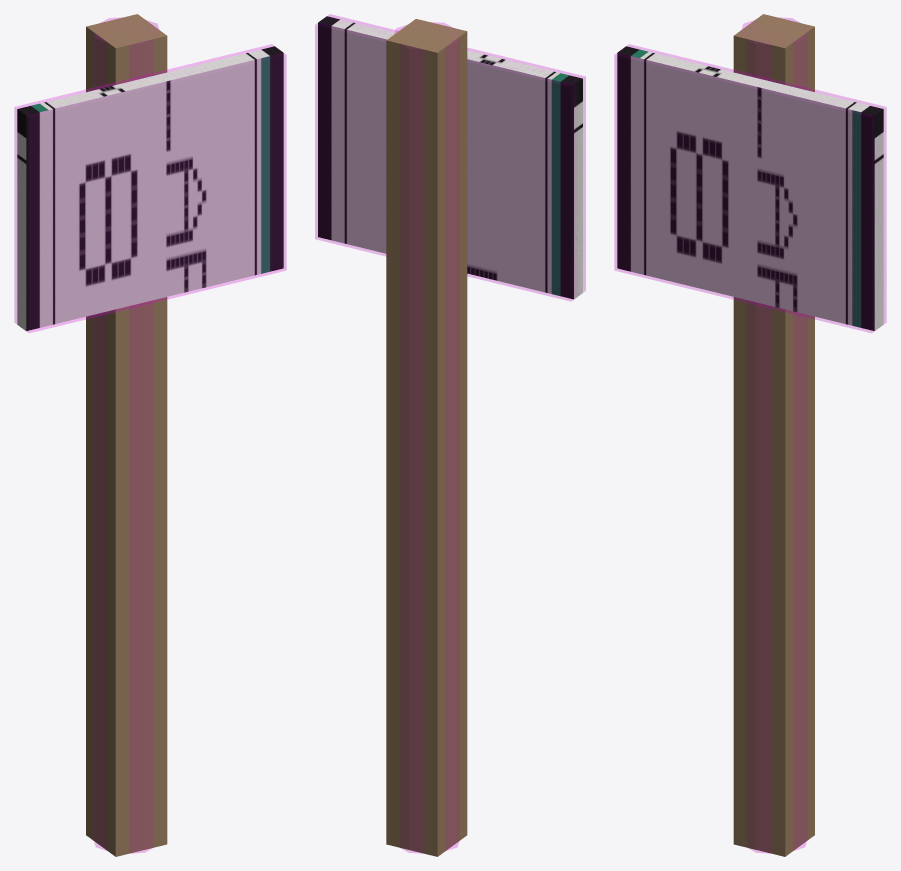
Rendered from lapsign_08.dae.
The picture shows the model from 3 angles, left to right: view 1: azimuth 30°, elevation 25°; view 2: azimuth 150°, elevation 25°; view 3: azimuth 330°, elevation 25°; orthographic projection.
Parts seen in each view (by area): view 1: sign, Colmesh_sign-1, post, Colmesh_post-1; view 2: post, sign, Colmesh_sign-1, Colmesh_post-1; view 3: sign, Colmesh_sign-1, post, Colmesh_post-1.
Boxes of the visible parts, x1=… form: sign: x1=17, y1=46, x2=283, y2=331; Colmesh_sign-1: x1=14, y1=44, x2=286, y2=332; post: x1=86, y1=14, x2=167, y2=856; Colmesh_post-1: x1=94, y1=17, x2=158, y2=853; post: x1=386, y1=19, x2=467, y2=856; sign: x1=318, y1=16, x2=582, y2=299; Colmesh_sign-1: x1=315, y1=14, x2=585, y2=301; Colmesh_post-1: x1=394, y1=22, x2=458, y2=853; sign: x1=617, y1=46, x2=883, y2=331; Colmesh_sign-1: x1=614, y1=44, x2=886, y2=332; post: x1=733, y1=14, x2=814, y2=856; Colmesh_post-1: x1=742, y1=17, x2=806, y2=853.
Size of the model in its own units: 0.5 by 0.165 by 1.5.
Materials: 3 (1 with a texture image).
